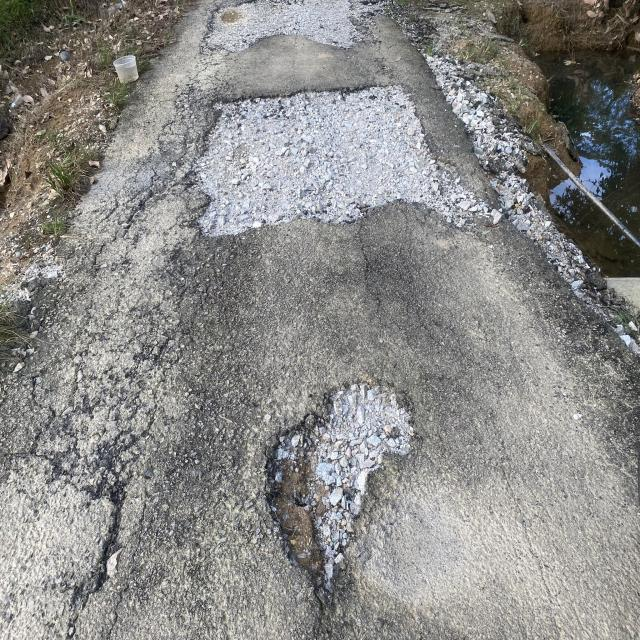pothole: (180, 64, 538, 310), (243, 378, 478, 640)
